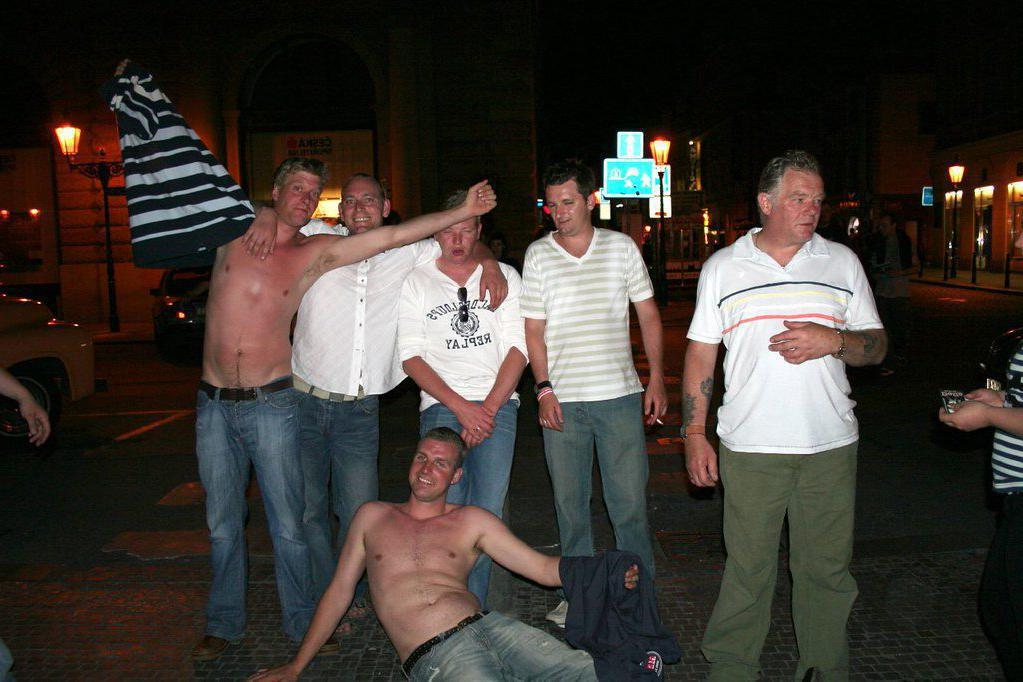Drunk: (406, 437, 458, 501), (783, 173, 829, 242), (542, 182, 587, 239), (336, 179, 382, 230), (286, 165, 321, 227), (433, 220, 484, 257)
